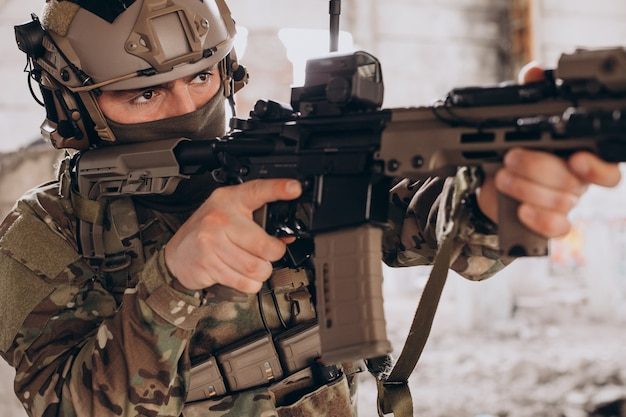gun: (68, 44, 626, 365)
